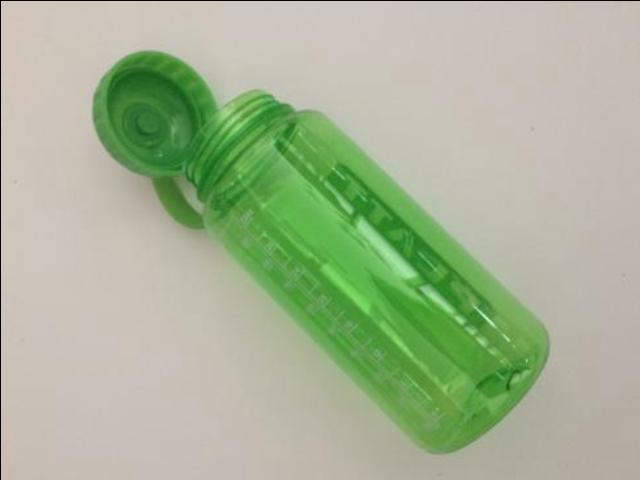plastic: (91, 50, 545, 449)
